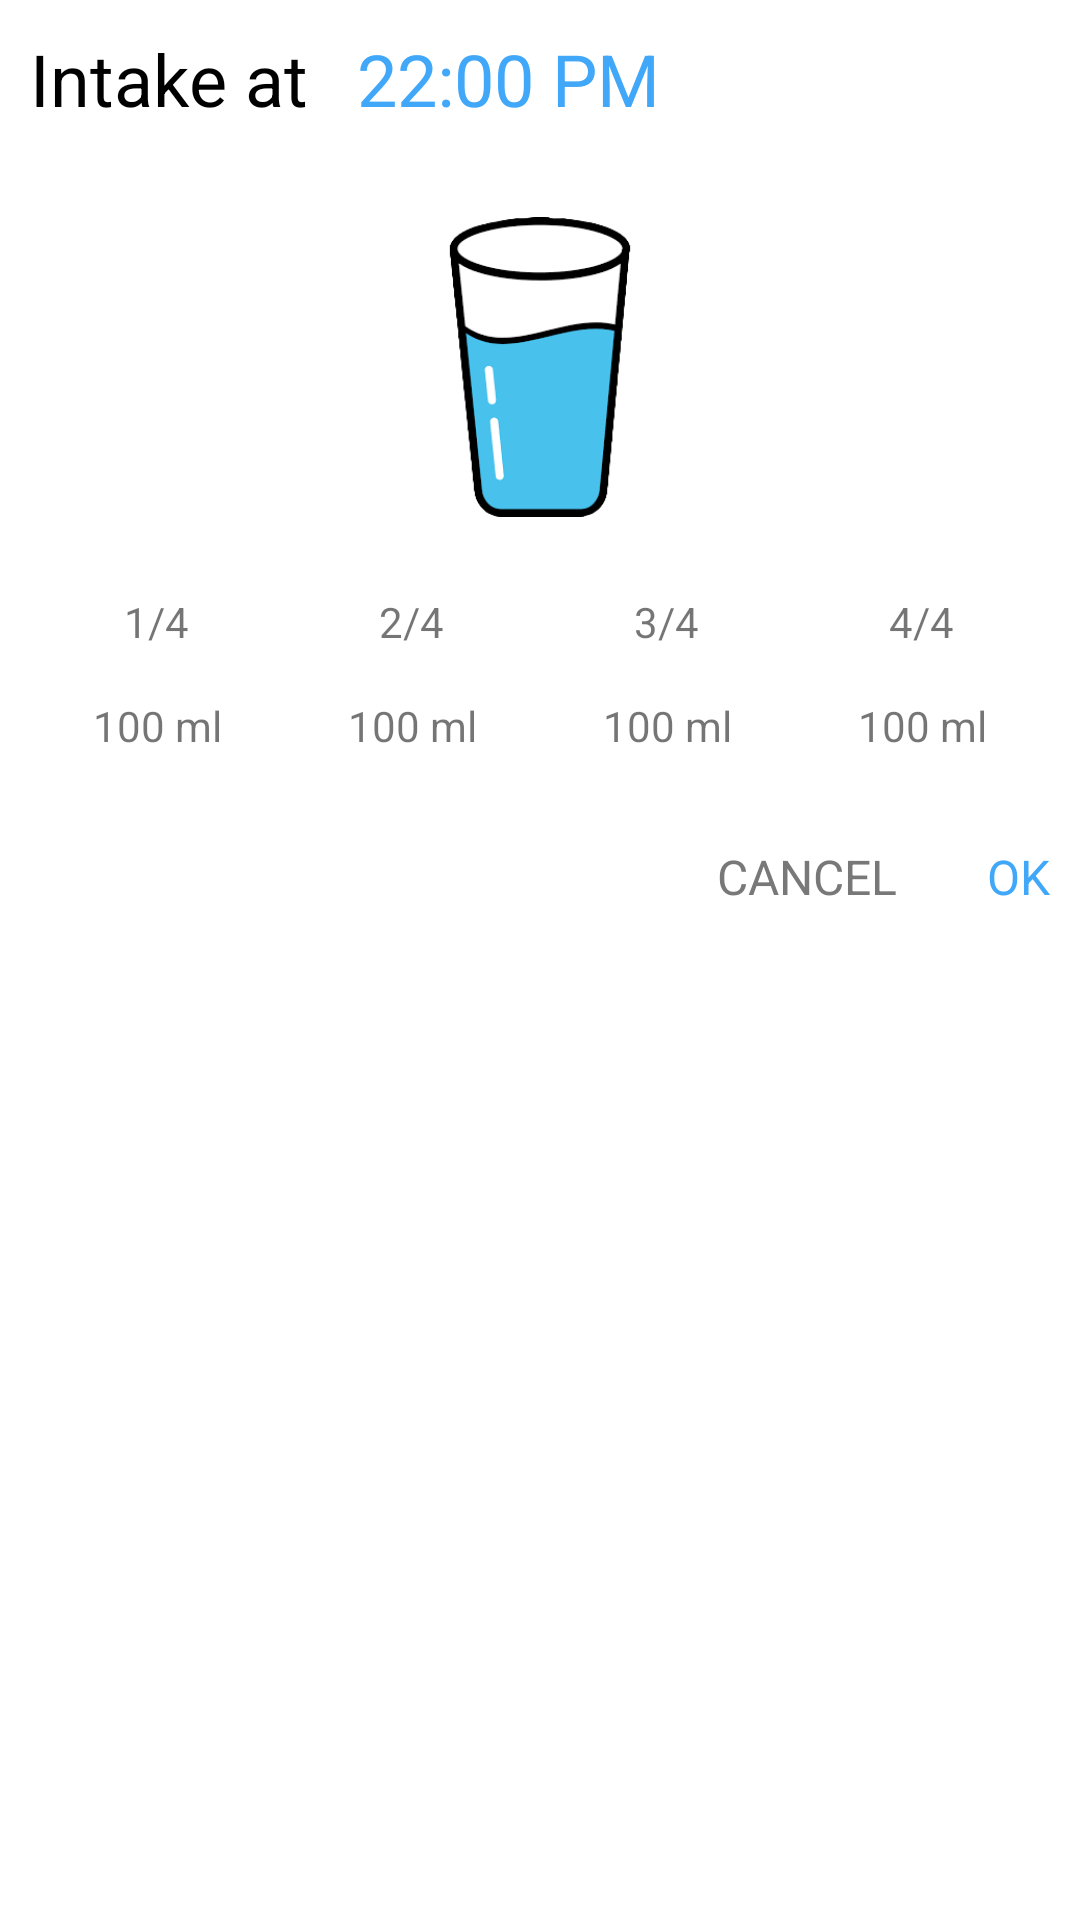

Locate icon controls on the screen. Image size 1080px×1920px, boxes as (x1, y1, x2, y2).
images glass: (449, 217, 631, 517)
